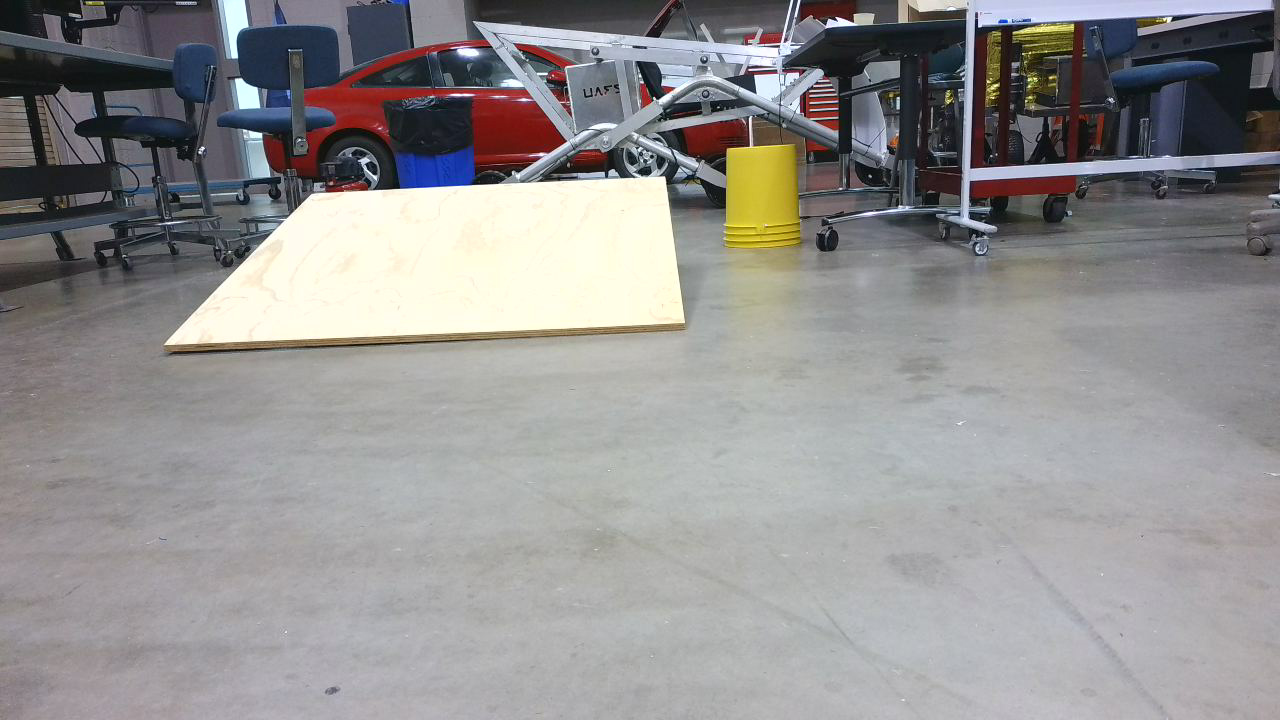concrete_block: (167, 176, 702, 360)
yellow_bucket: (724, 148, 811, 254)
